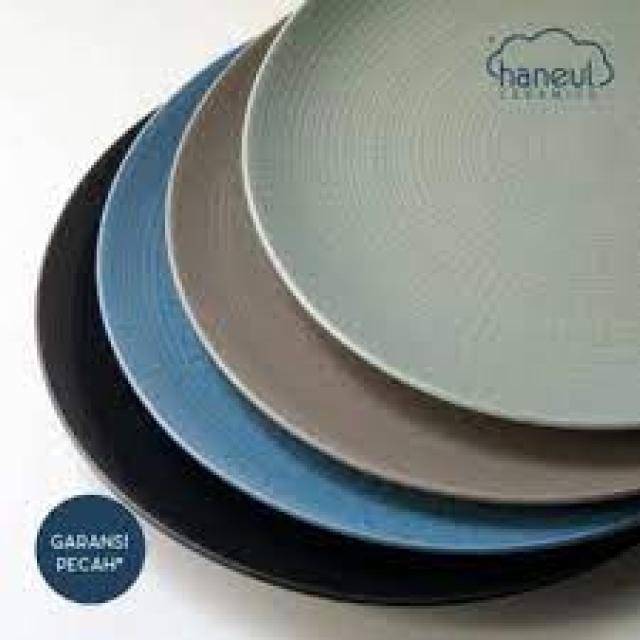Plate: (249, 0, 640, 441)
